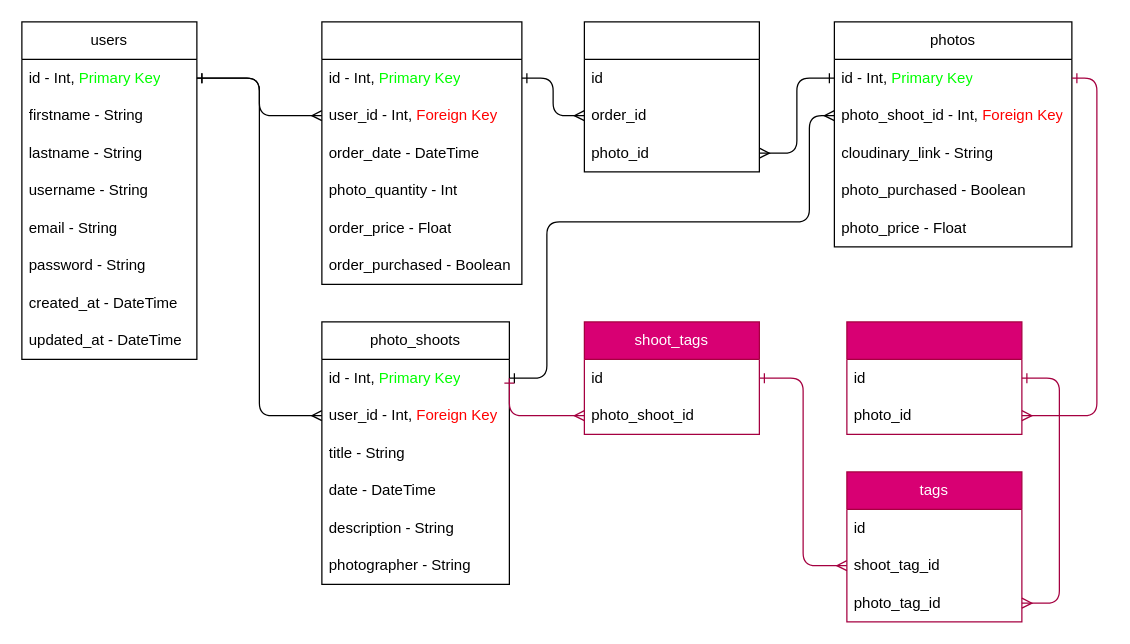
This 1130x644 diagram has some shape labels left out. The box of each missing label's shape, as (x1, y1, x2, y2) in pixels:
order_items: (583, 21, 759, 172)
orders: (321, 21, 522, 284)
photo_tags: (846, 321, 1022, 434)
